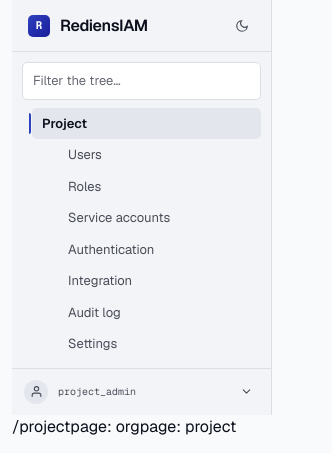
Test: the account menu › closes when the operator clicks anywhere else
Click the button titled "Account & sign out": (246,392) [233,378,259,404]
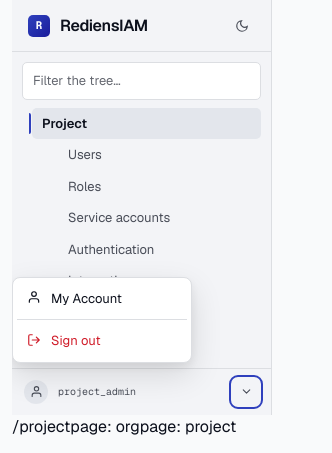
Click the text with test id "here": (41,426) [12,416,70,436]
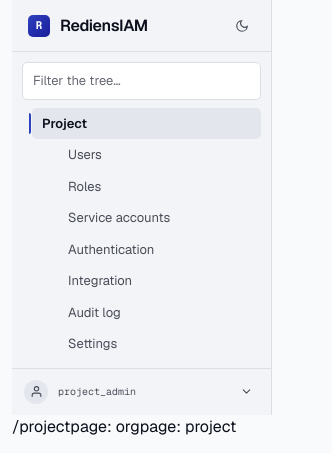
expect the button "My Account" is gone: met
